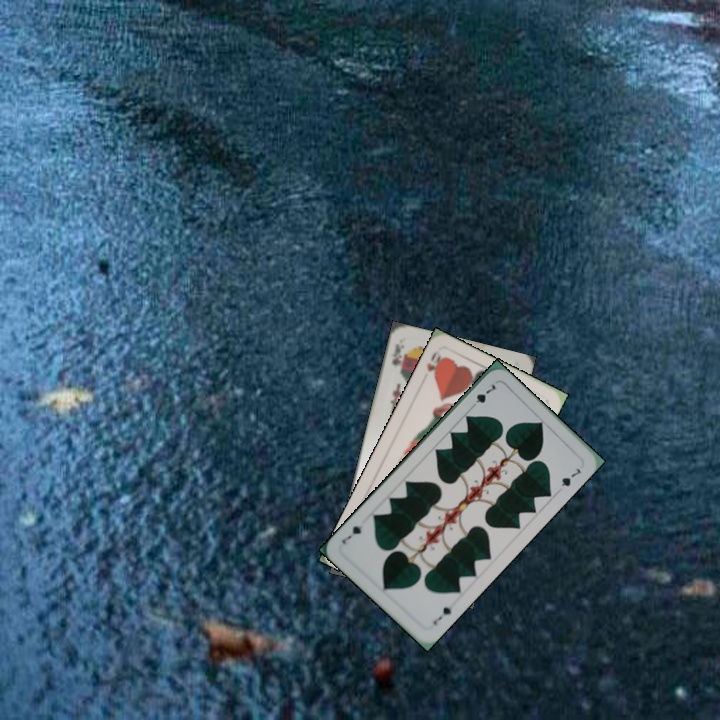G7: (466, 379, 498, 412), (429, 600, 457, 627)
HO: (422, 346, 446, 380)
SK: (387, 339, 408, 376)
